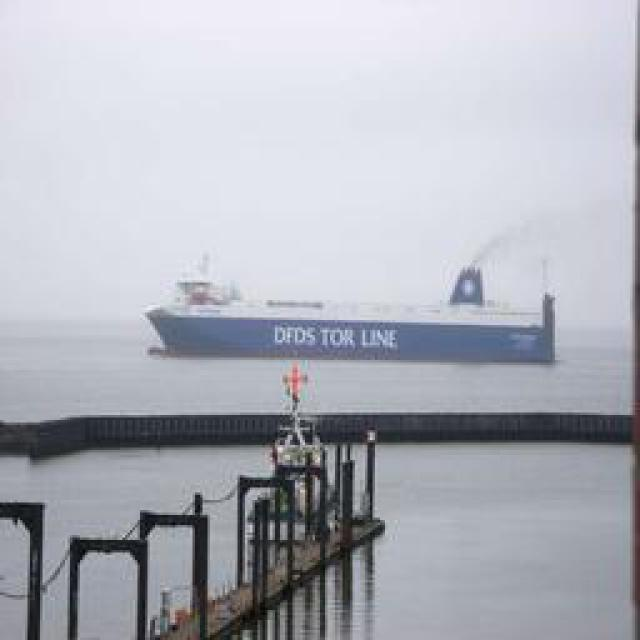Ship: (150, 265, 560, 365)
